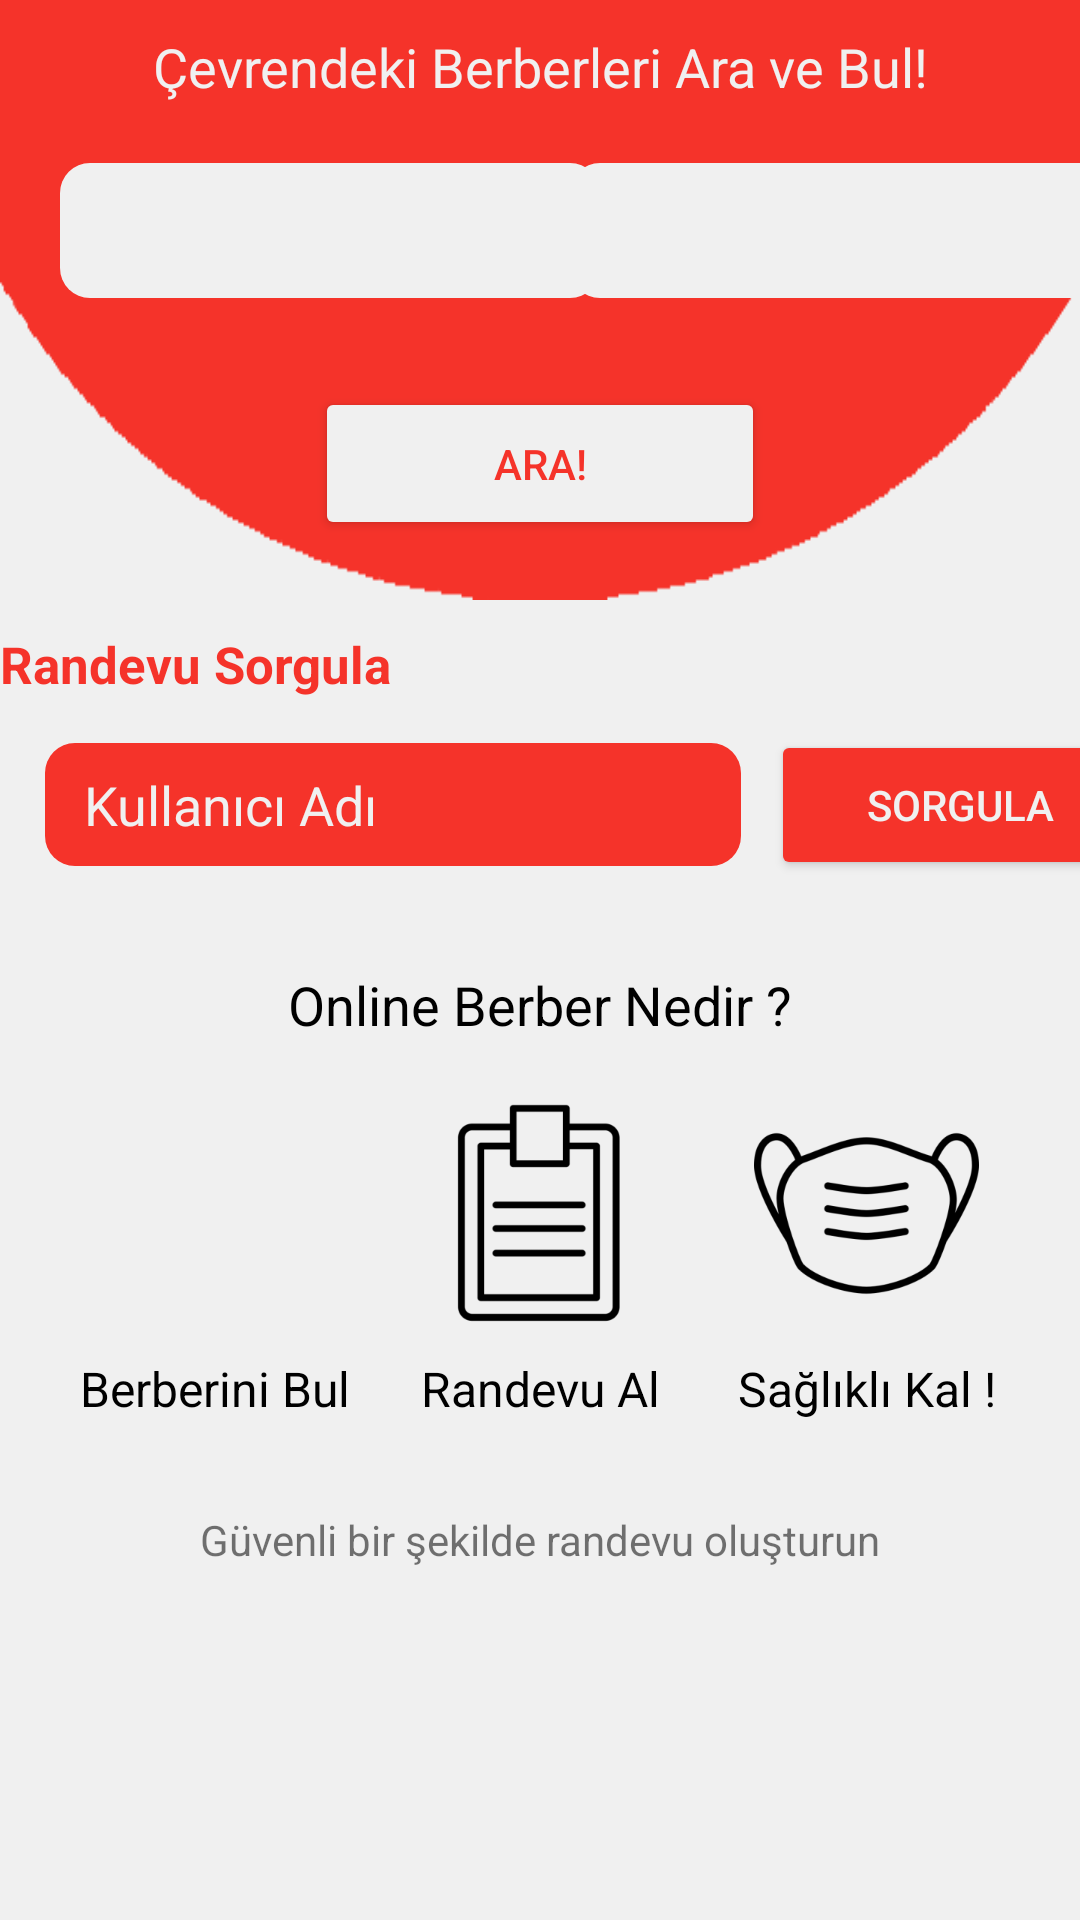

Locate icon controls on the screen. Image size 1080px x 1920px, boxes as (x1=x1, y1=y1, x2=x2, y2=y2).
liste: (x1=458, y1=1104, x2=620, y2=1321)
maske: (x1=754, y1=1133, x2=979, y2=1294)
